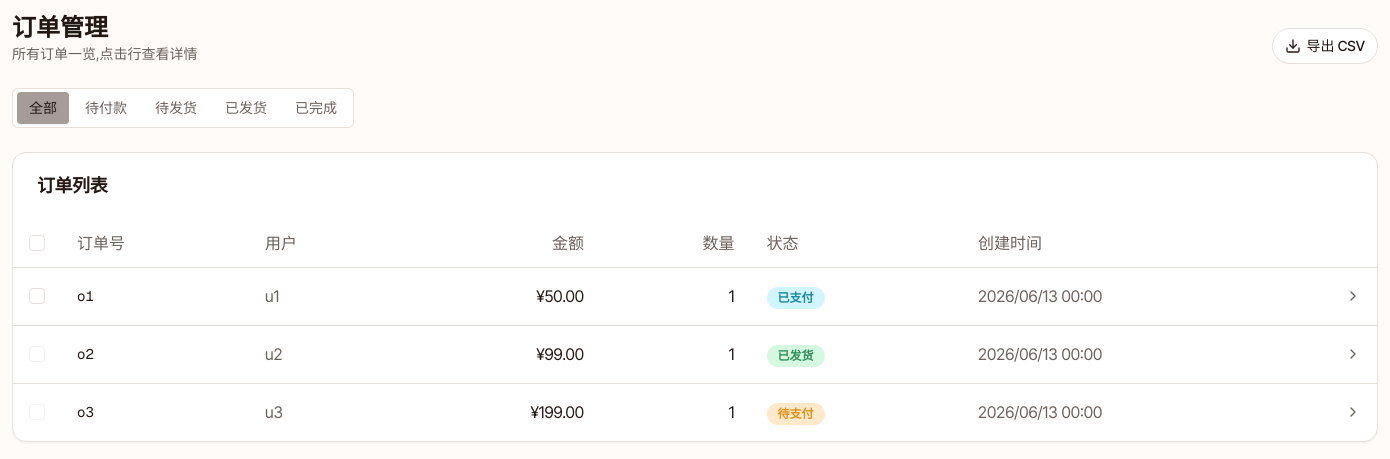
OrderListPage › OD ad-05: 导出 CSV pending 时显示 animate-spin 图标
Expected: the text "o1" is shown, [61, 267, 249, 325]
Click the button "导出 CSV".
click(1325, 46)  # box [1272, 28, 1378, 64]
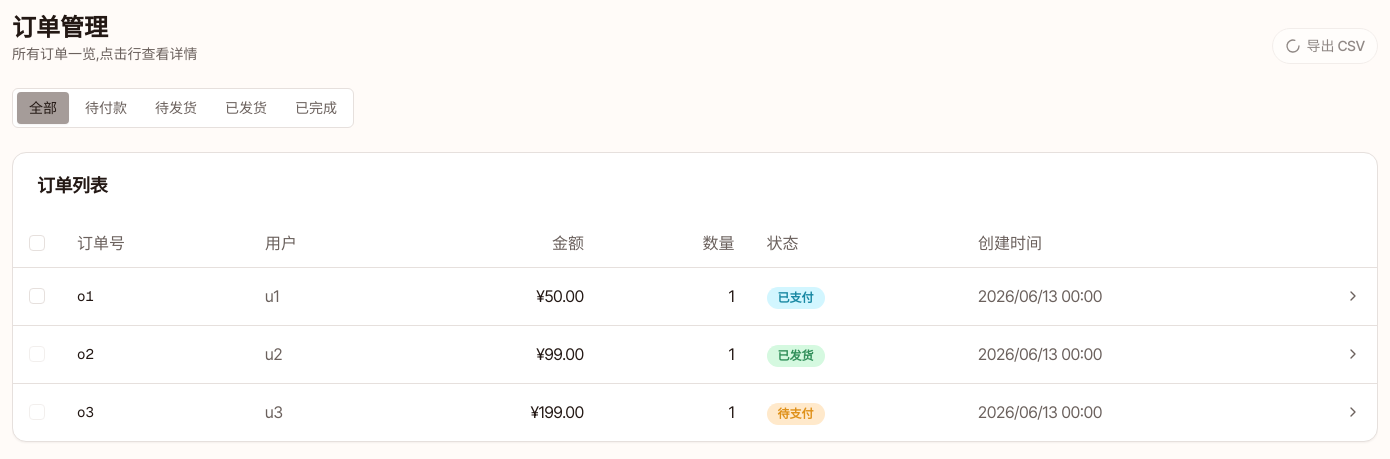
Result: the icon with class "animate-spin" is shown at [1284, 38, 1300, 54]
